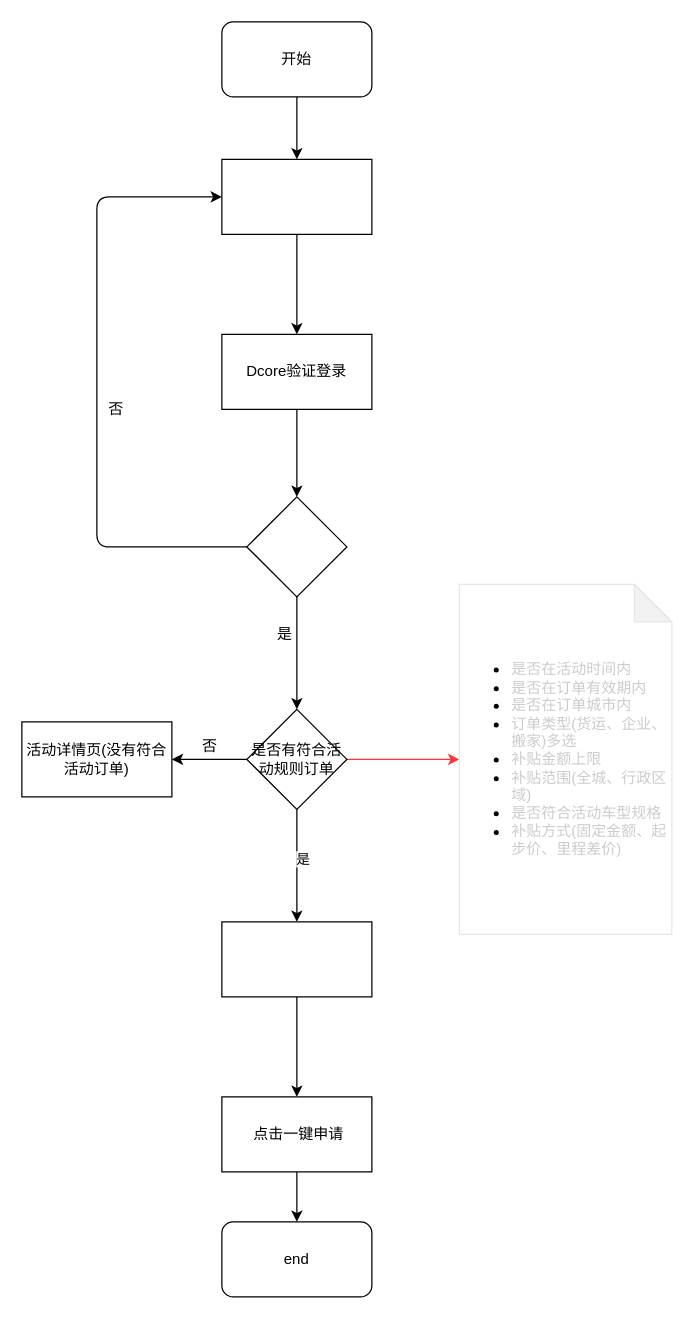
Image size: 694x1319. Some labels were removed from this diagram. The box of each missing label's shape, as (x1, y1, x2, y2) in pixels:
是否司机: (246, 496, 347, 597)
活动详情页(有可申请的订单列表): (221, 921, 372, 997)
活动首页 输入手机号码: (221, 158, 372, 234)
